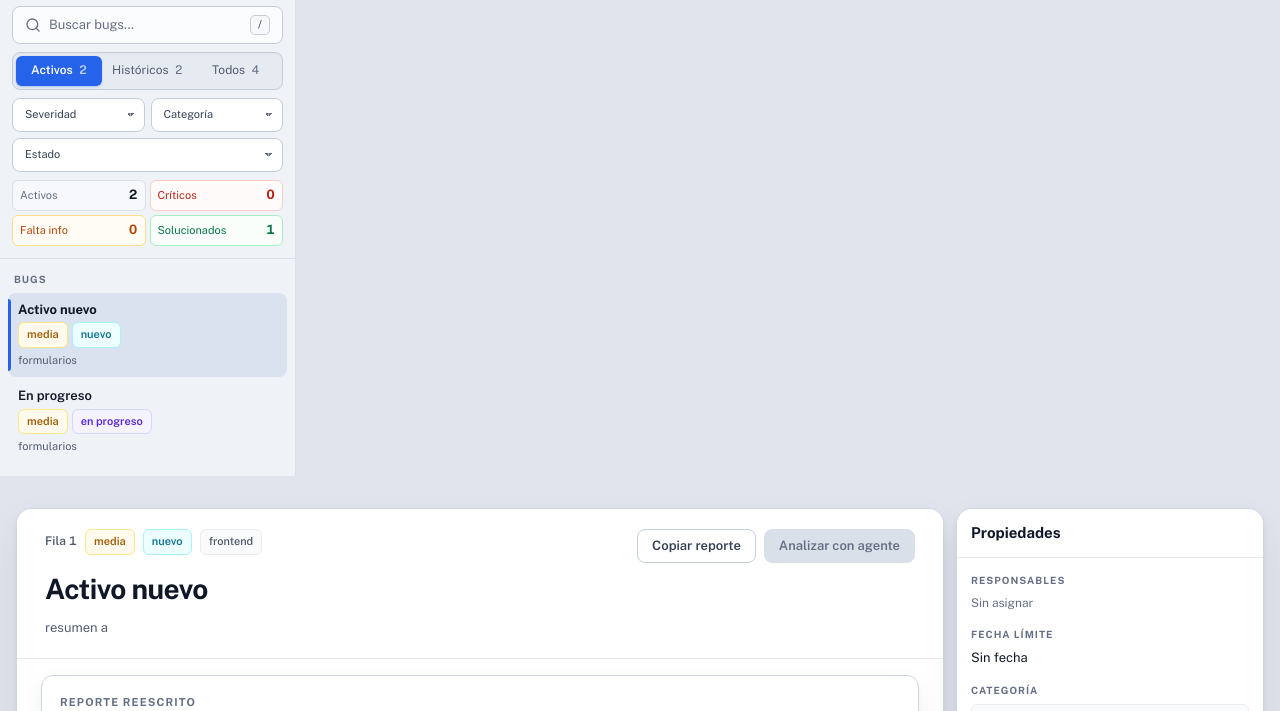
Test: BugsScreen — ciclo de vida (activos / históricos) › la pestaña históricos muestra resueltos, cerrados y no replicados
Click the tab "Históricos 2" at point(147, 71), box [104, 56, 191, 86]
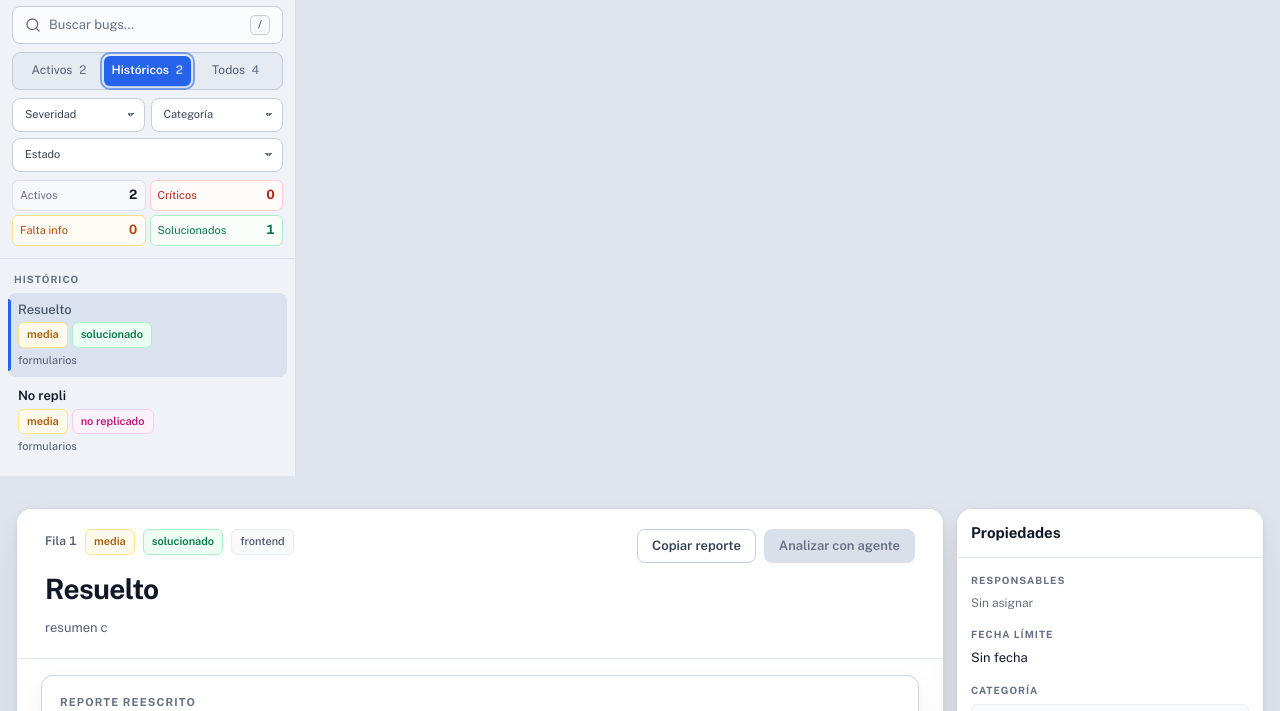
Expected: the button "Activo nuevo" is gone
Expected: the text "Resuelto" is shown, [18, 302, 72, 317]
Expected: the text "No repli" is shown, [18, 388, 66, 403]
